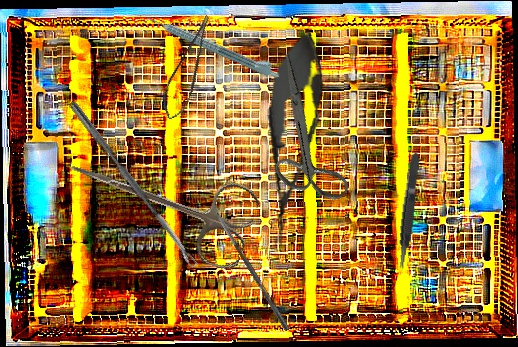Handpiece: (145, 8, 284, 82)
Iris Scissors: (56, 130, 263, 274), (221, 52, 388, 219)
Micro Scissor: (250, 25, 334, 249), (152, 13, 229, 124)
Surgical Spoon: (67, 99, 198, 270), (211, 204, 291, 332)
Tissue Forceps: (393, 151, 424, 273)
